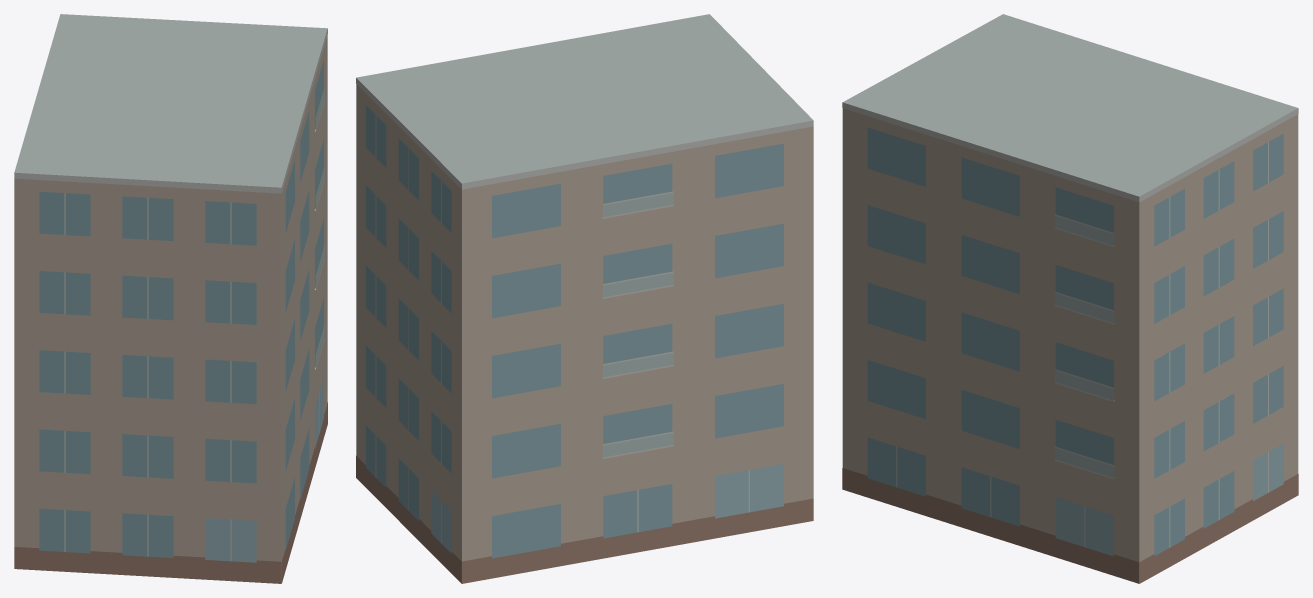
Rendered from survey-upis-32890015.glb.
3 renders of one model, left to right at view 1: azimuth 30°, elevation 25°; view 2: azimuth 150°, elevation 25°; view 3: azimuth 270°, elevation 25°, orthographic. The views are drawn at different scales.
Visible parts, largest first — view 1: survey-upis-32890015.tmp; view 2: survey-upis-32890015.tmp; view 3: survey-upis-32890015.tmp.
Boxes of the visible parts, box(x1,y1,x2,y2) form: survey-upis-32890015.tmp: box(14, 14, 327, 583); survey-upis-32890015.tmp: box(356, 14, 813, 583); survey-upis-32890015.tmp: box(842, 14, 1298, 583).
Bounding box in the file's own units: 16.61 × 16.4 × 17.51.
